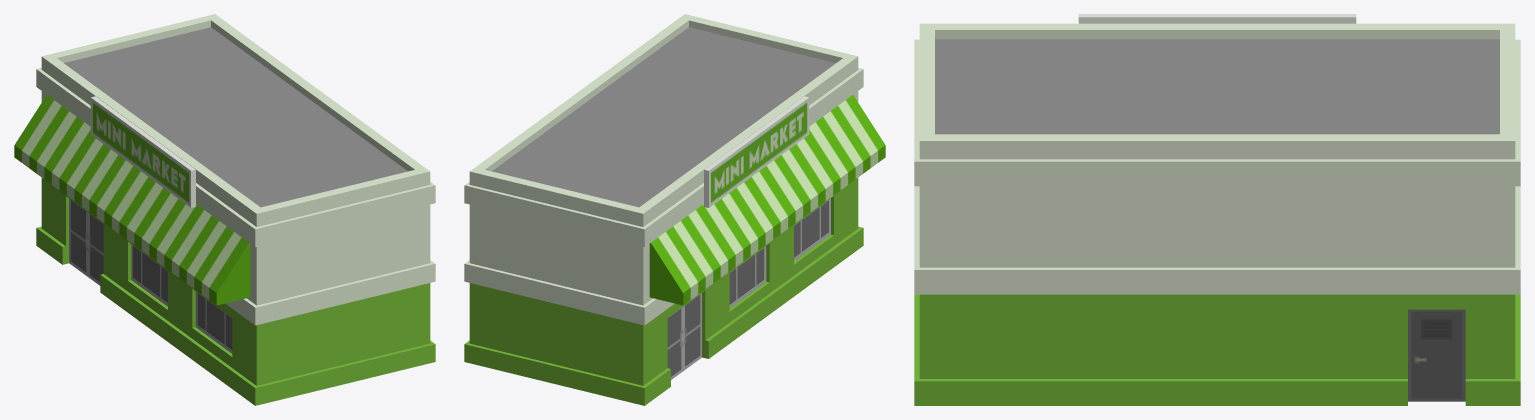
Rendered from west_fangzi03.FBX.
The picture shows the model from 3 angles, left to right: view 1: azimuth 30°, elevation 25°; view 2: azimuth 150°, elevation 25°; view 3: azimuth 270°, elevation 25°; orthographic projection. The views are drawn at different scales.
Visible parts, largest first — view 1: west_fangzi03; view 2: west_fangzi03; view 3: west_fangzi03.
Boxes of the visible parts, <box> form: west_fangzi03: <box>14,14,435,405</box>; west_fangzi03: <box>464,14,885,405</box>; west_fangzi03: <box>914,14,1520,405</box>.
Size of the model in its own units: 2593 by 2271 by 4674.
